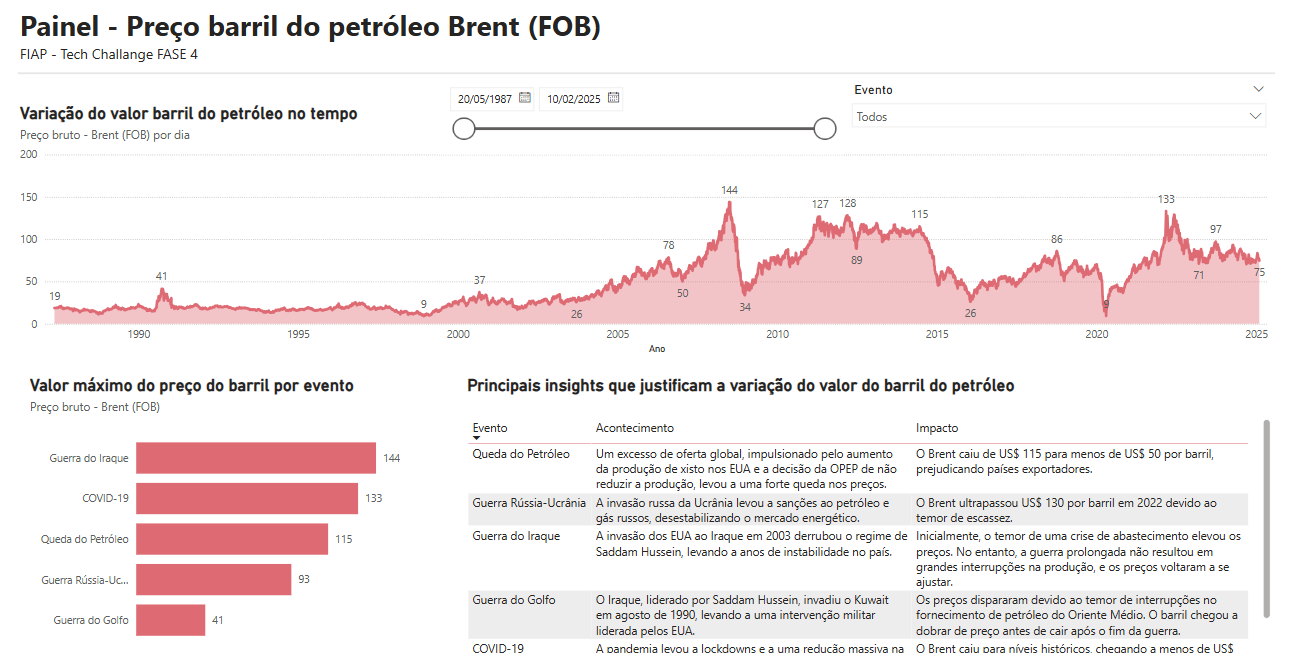

What the dashboard file says about the page in this screenshot:
{"tool":"powerbi","page":{"name":"Página 1","canvas":[1500,775],"ordinal":0},"visuals":[{"type":"areaChart","title":"Variação do valor barril do petróleo no tempo","fields":{"Y":["Sum(Planilha3.Preço - petróleo bruto - Brent (FOB))"],"Category":["Planilha3.Data.Variation.Hierarquia de datas.Ano","Planilha3.Data.Variation.Hierarquia de datas.Trimestre","Planilha3.Data.Variation.Hierarquia de datas.Mês","Planilha3.Data.Variation.Hierarquia de datas.Dia"]},"box":[24.3,127.1,1440,291.4],"z":0},{"type":"slicer","fields":{"Values":["Planilha3.evento"]},"box":[970.1,98.5,494.1,83.3],"z":1000},{"type":"clusteredBarChart","title":"Valor máximo do preço do barril  por evento","fields":{"Category":["Planilha3.evento"],"Y":["Max(Planilha3.Preço - petróleo bruto - Brent (FOB))"]},"box":[35.4,438.8,456.5,321.6],"z":2000},{"type":"tableEx","title":"Principais insights que justificam a variação do valor do barril do petróleo","fields":{"Values":["Planilha3.evento","Planilha3.Acontecimento","Planilha3.impacto"]},"box":[535.7,438.6,928.6,321.4],"z":3000},{"type":"textbox","box":[24.3,11.4,1440,87.1],"z":4000},{"type":"shape","box":[27.1,64.3,1437.1,57.1],"z":5000},{"type":"slicer","fields":{"Values":["Planilha3.Data"]},"box":[508,98.5,462.2,87.4],"z":5001}]}

Visuals, with their boxes in screenshot pixels (x1, y1, x2, y2), scaled from the page's 1500x775 canvas onto the 1297x666 screenshot:
"Variação do valor barril do petróleo no tempo" areaChart: bbox=(21, 109, 1266, 360)
slicer - Planilha3.evento: bbox=(839, 85, 1266, 156)
"Valor máximo do preço do barril  por evento" clusteredBarChart: bbox=(31, 377, 425, 653)
"Principais insights que justificam a variação do valor do barril do petróleo" tableEx: bbox=(463, 377, 1266, 653)
textbox: bbox=(21, 10, 1266, 85)
shape: bbox=(23, 55, 1266, 104)
slicer - Planilha3.Data: bbox=(439, 85, 839, 160)
